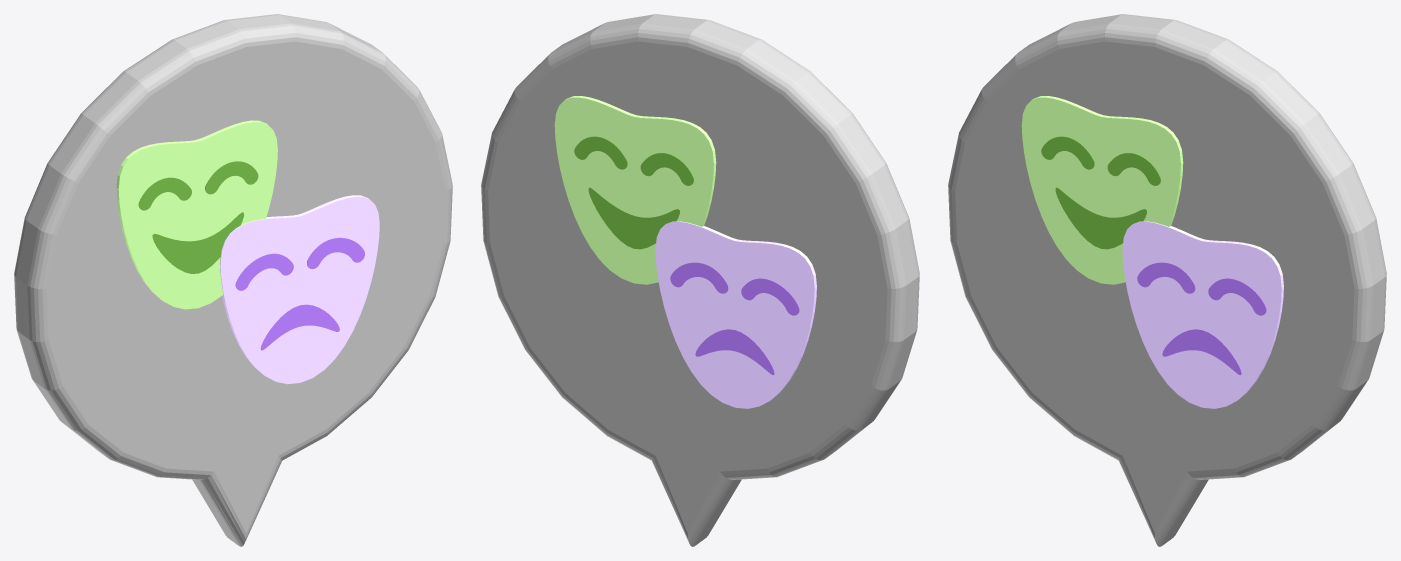
The model's file is performing_arts.glb.
3 renders of one model, left to right at view 1: azimuth 30°, elevation 25°; view 2: azimuth 150°, elevation 25°; view 3: azimuth 330°, elevation 25°, orthographic.
Parts seen in each view (by area): view 1: EmotionBubble; view 2: EmotionBubble; view 3: EmotionBubble.
Part boxes in pixels (bbox=[...]): EmotionBubble: bbox=[14, 14, 452, 546]; EmotionBubble: bbox=[481, 14, 919, 546]; EmotionBubble: bbox=[948, 14, 1386, 546].
Size of the model in its own units: 5.29 by 6.16 by 0.712.
